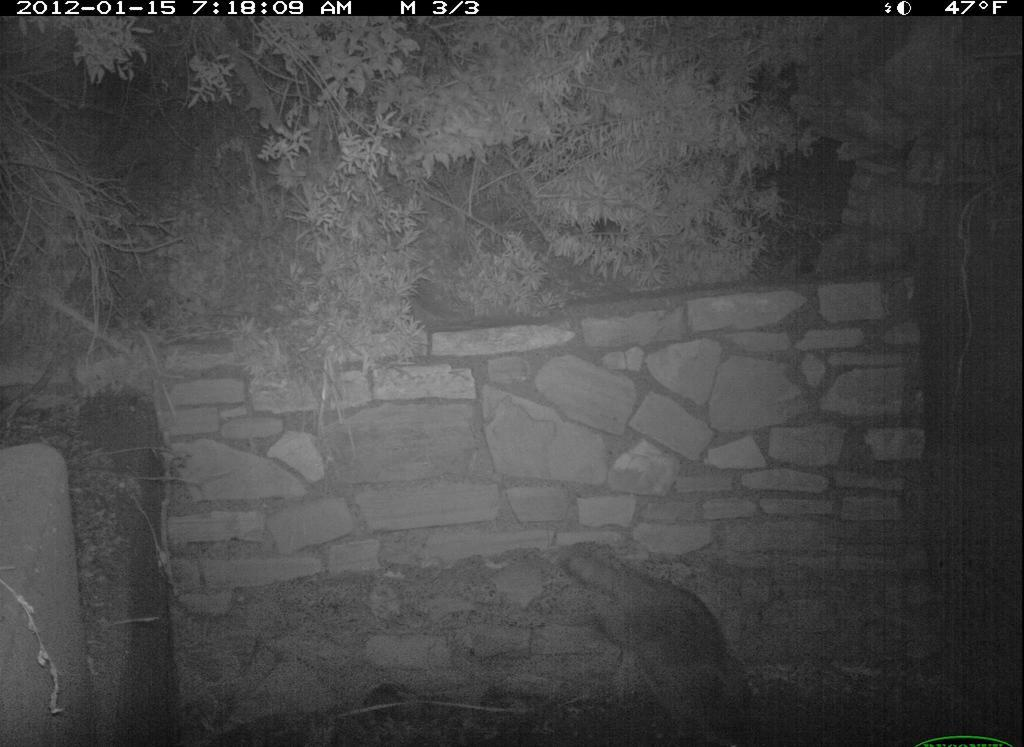raccoon: (553, 536, 772, 747)
